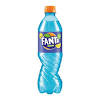fanta_bottle: (37, 5, 63, 94)
